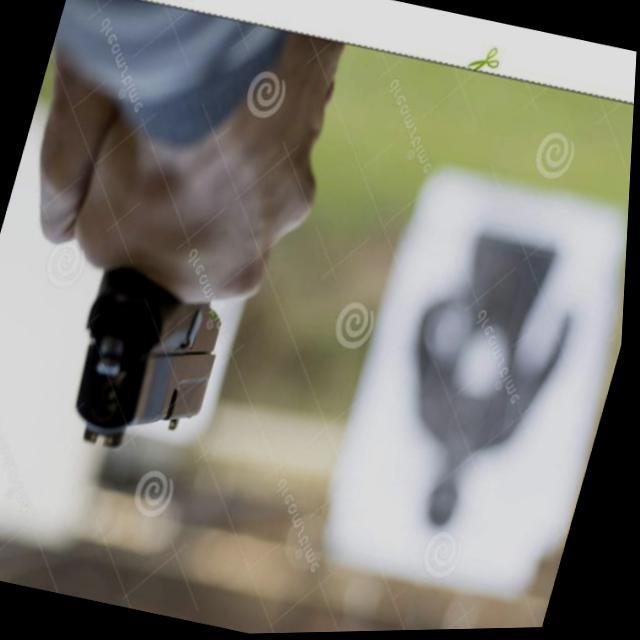gun: (56, 261, 239, 471)
